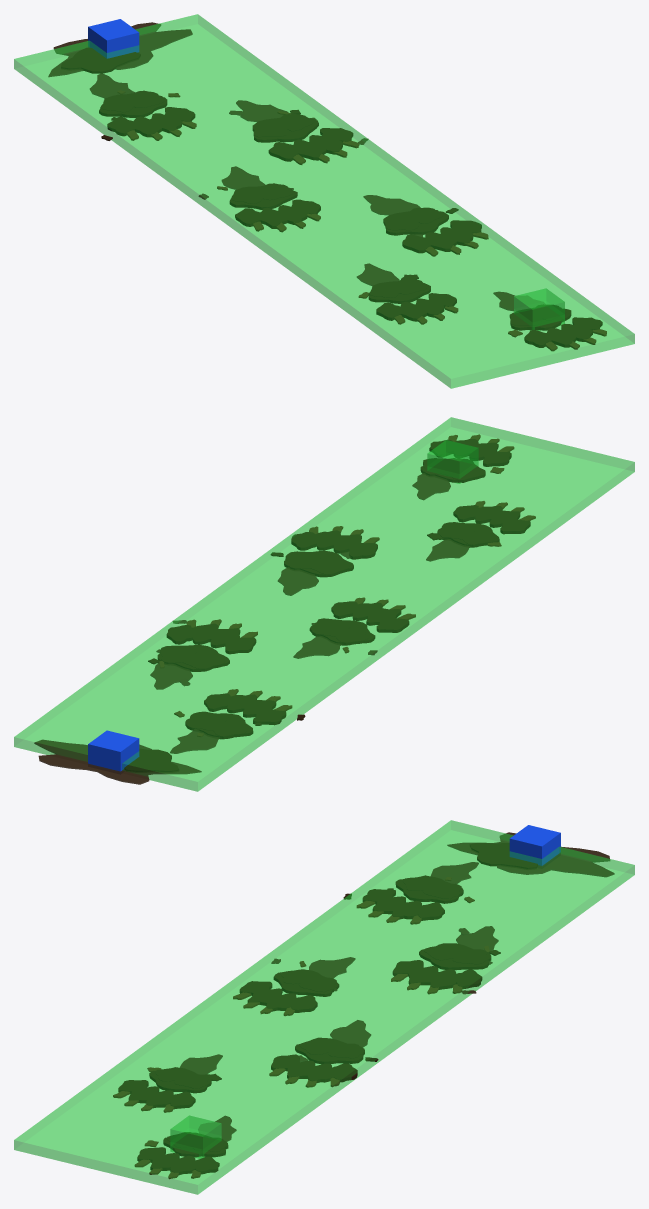
The model's file is muddy_pawprints_trail.obj.
The picture shows the model from 3 angles, top to bottom: view 1: azimuth 30°, elevation 25°; view 2: azimuth 150°, elevation 25°; view 3: azimuth 330°, elevation 25°; orthographic projection.
Parts seen in each view (by area): view 1: Guide_Scent_Trail_Area_delete_or_hide, Partial_muddy_step_start_smear_large, Guide_Track_Start_delete_or_hide, Guide_Track_End_delete_or_hide, Partial_muddy_step_start_main_blob, Pawprint_04_right_mud_smear_heel_drag, Pawprint_02_right_mud_smear_heel_drag, Pawprint_02_right_main_pad_center, Pawprint_01_left_mud_smear_heel_drag, Pawprint_03_left_mud_smear_heel_drag, Pawprint_01_left_main_pad_center, Pawprint_04_right_main_pad_center (+5 smaller); view 2: Guide_Scent_Trail_Area_delete_or_hide, Partial_muddy_step_start_smear_large, Guide_Track_Start_delete_or_hide, Guide_Track_End_delete_or_hide, Partial_muddy_step_start_main_blob, Pawprint_04_right_mud_smear_heel_drag, Pawprint_02_right_mud_smear_heel_drag, Pawprint_01_left_mud_smear_heel_drag, Pawprint_03_left_mud_smear_heel_drag, Pawprint_06_right_mud_smear_heel_drag, Pawprint_05_left_mud_smear_heel_drag, Pawprint_02_right_main_pad_outer_lobe (+1 smaller); view 3: Guide_Scent_Trail_Area_delete_or_hide, Partial_muddy_step_start_smear_large, Guide_Track_Start_delete_or_hide, Guide_Track_End_delete_or_hide, Partial_muddy_step_start_main_blob, Pawprint_04_right_mud_smear_heel_drag, Pawprint_02_right_mud_smear_heel_drag, Pawprint_02_right_main_pad_center, Pawprint_01_left_mud_smear_heel_drag, Pawprint_03_left_mud_smear_heel_drag, Pawprint_04_right_main_pad_center, Pawprint_01_left_main_pad_center (+3 smaller).
Part boxes in pixels (box(x1,y1,x2,y2)): Guide_Scent_Trail_Area_delete_or_hide: box(14, 14, 634, 388); Partial_muddy_step_start_smear_large: box(48, 22, 192, 76); Guide_Track_Start_delete_or_hide: box(88, 19, 139, 58); Guide_Track_End_delete_or_hide: box(514, 288, 564, 330); Partial_muddy_step_start_main_blob: box(61, 47, 140, 73); Pawprint_04_right_mud_smear_heel_drag: box(363, 195, 420, 215); Pawprint_02_right_mud_smear_heel_drag: box(236, 100, 287, 121); Pawprint_02_right_main_pad_center: box(254, 114, 318, 142); Pawprint_01_left_mud_smear_heel_drag: box(90, 73, 132, 98); Pawprint_03_left_mud_smear_heel_drag: box(221, 166, 265, 189); Pawprint_01_left_main_pad_center: box(99, 91, 167, 117); Pawprint_04_right_main_pad_center: box(386, 207, 448, 235); Guide_Scent_Trail_Area_delete_or_hide: box(14, 417, 634, 791); Partial_muddy_step_start_smear_large: box(34, 739, 201, 784); Guide_Track_Start_delete_or_hide: box(88, 730, 139, 771); Guide_Track_End_delete_or_hide: box(427, 440, 478, 483); Partial_muddy_step_start_main_blob: box(124, 748, 179, 771); Pawprint_04_right_mud_smear_heel_drag: box(278, 567, 318, 595); Pawprint_02_right_mud_smear_heel_drag: box(150, 663, 192, 689); Pawprint_01_left_mud_smear_heel_drag: box(170, 730, 219, 753); Pawprint_03_left_mud_smear_heel_drag: box(293, 636, 342, 658); Pawprint_06_right_mud_smear_heel_drag: box(412, 473, 450, 500); Pawprint_05_left_mud_smear_heel_drag: box(426, 539, 470, 561); Pawprint_02_right_main_pad_outer_lobe: box(182, 651, 224, 671); Guide_Scent_Trail_Area_delete_or_hide: box(14, 820, 634, 1194); Partial_muddy_step_start_smear_large: box(447, 832, 614, 877); Guide_Track_Start_delete_or_hide: box(509, 825, 560, 865); Guide_Track_End_delete_or_hide: box(170, 1115, 221, 1158); Partial_muddy_step_start_main_blob: box(470, 842, 537, 868); Pawprint_04_right_mud_smear_heel_drag: box(330, 1020, 370, 1047); Pawprint_02_right_mud_smear_heel_drag: box(456, 926, 498, 950); Pawprint_02_right_main_pad_center: box(419, 943, 491, 970); Pawprint_01_left_mud_smear_heel_drag: box(431, 862, 478, 883); Pawprint_03_left_mud_smear_heel_drag: box(309, 957, 355, 978); Pawprint_04_right_main_pad_center: box(295, 1038, 364, 1064); Pawprint_01_left_main_pad_center: box(395, 876, 463, 903).
Size of the model in its own units: 0.736 by 0.08 by 2.88.
